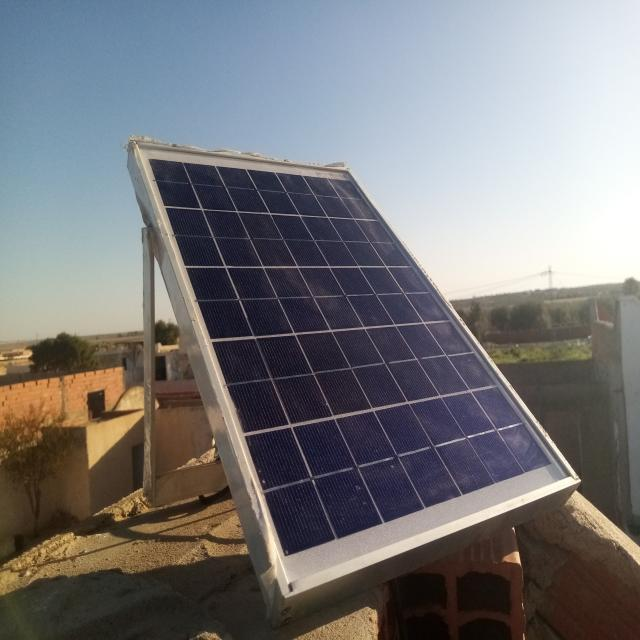no faulty: (132, 146, 578, 597)
